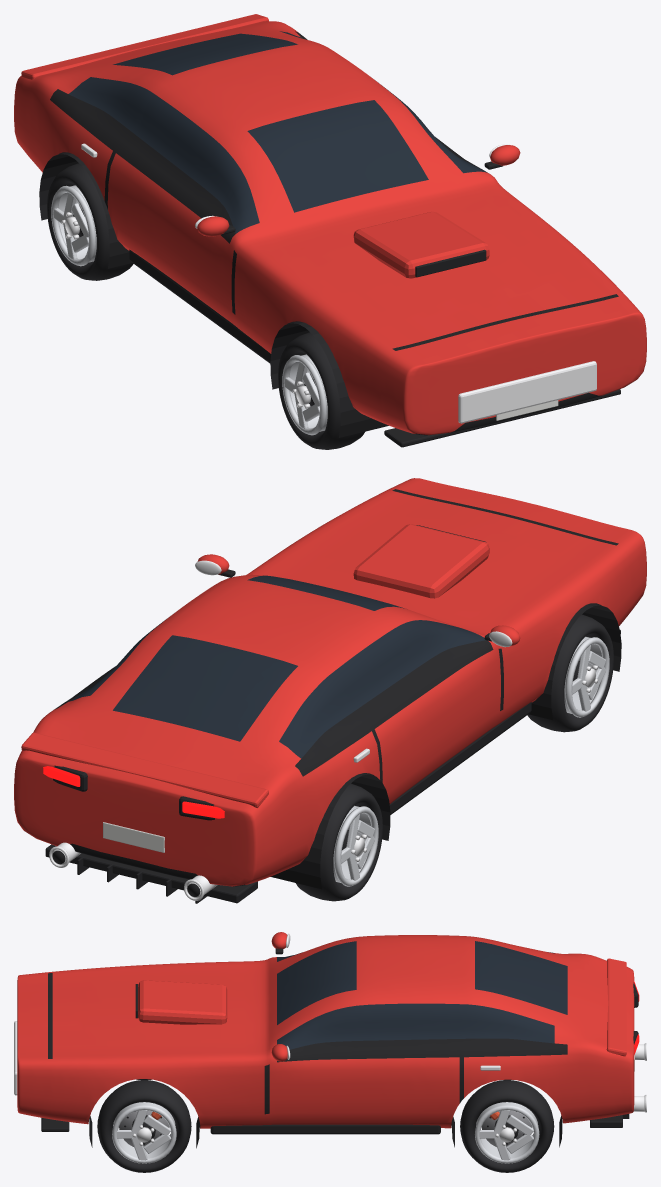
File: brenner_mid.glb
3 renders of one model, top to bottom at view 1: azimuth 30°, elevation 25°; view 2: azimuth 150°, elevation 25°; view 3: azimuth 270°, elevation 25°, orthographic. The views are drawn at different scales.
Visible parts, largest first — view 1: body, wheel_fr, wheel_rr; view 2: body, wheel_fr, wheel_rr; view 3: body, wheel_fl, wheel_rl.
Boxes of the visible parts, left/top/right/bottom form: body: left=14, top=14, right=646, bottom=447; wheel_fr: left=278, top=332, right=364, bottom=449; wheel_rr: left=47, top=163, right=133, bottom=280; body: left=14, top=478, right=646, bottom=903; wheel_fr: left=527, top=614, right=613, bottom=732; wheel_rr: left=296, top=783, right=382, bottom=901; body: left=14, top=932, right=646, bottom=1148; wheel_fl: left=97, top=1080, right=191, bottom=1172; wheel_rl: left=460, top=1080, right=554, bottom=1172.
Size of the model in its own units: 2.29 by 1.4 by 4.97.
